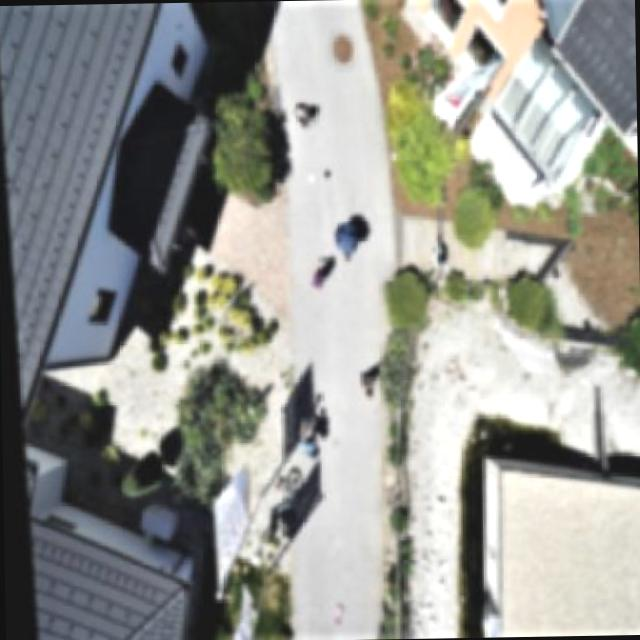Person: (288, 426, 321, 468), (299, 260, 329, 296), (292, 94, 314, 132)
